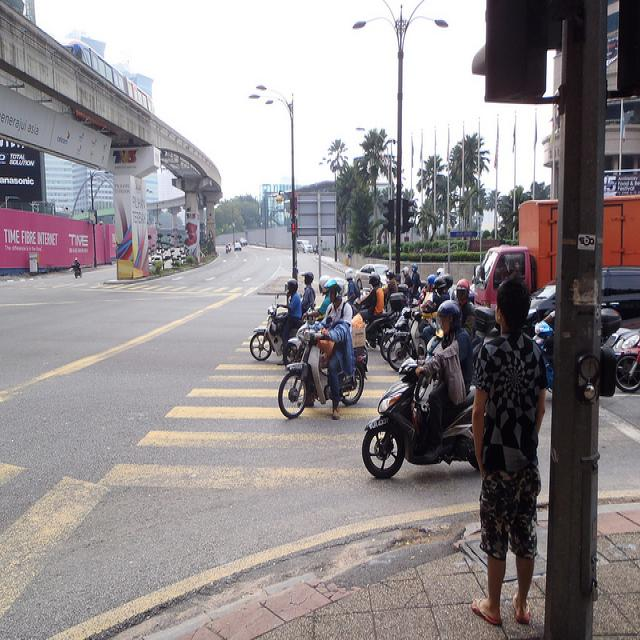motor: (359, 358, 479, 480), (278, 306, 371, 424), (379, 309, 437, 363), (388, 309, 435, 374), (352, 293, 406, 348), (249, 294, 286, 362), (612, 328, 640, 394), (284, 322, 326, 366), (531, 281, 557, 320)
